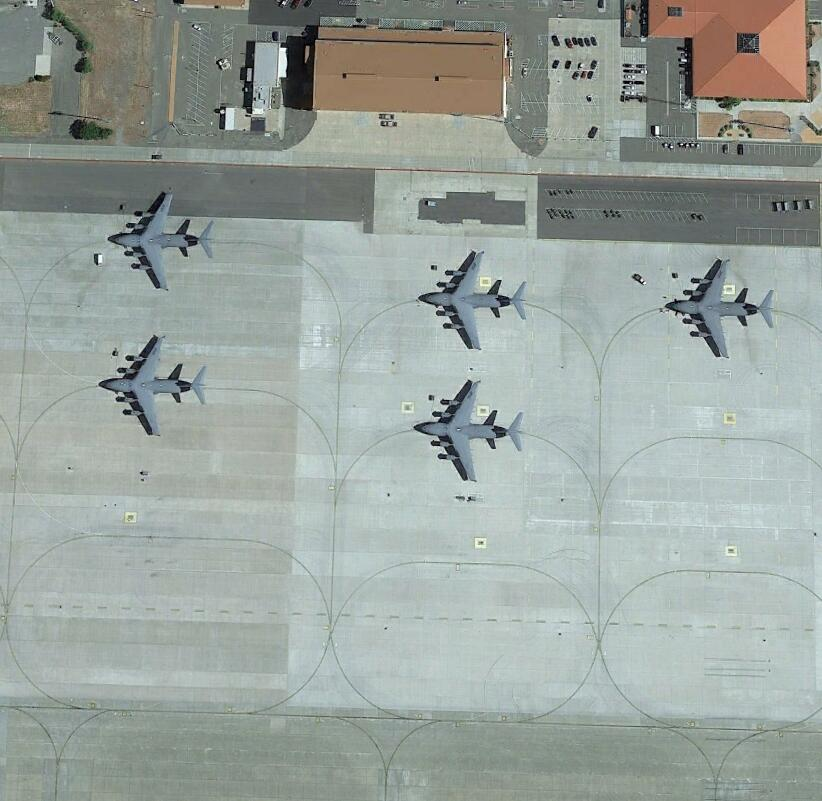A3: (414, 383, 527, 484), (98, 336, 209, 437), (669, 259, 776, 362), (417, 253, 530, 348), (109, 194, 218, 291)
